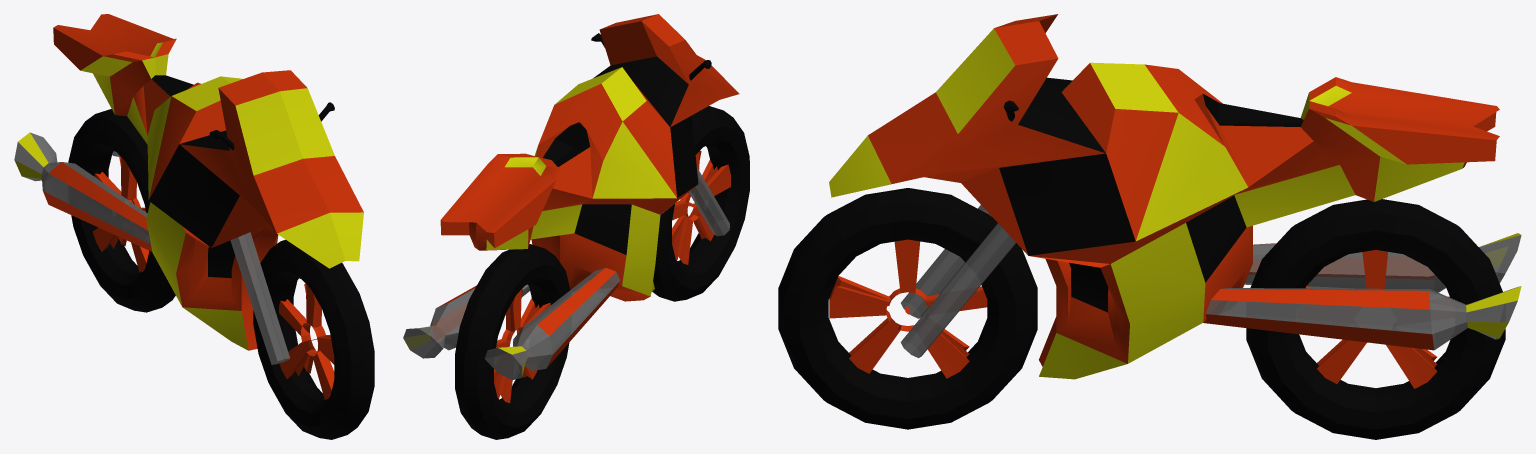
Rendered from nix.glb.
The picture shows the model from 3 angles, left to right: view 1: azimuth 30°, elevation 25°; view 2: azimuth 150°, elevation 25°; view 3: azimuth 270°, elevation 25°; orthographic projection. The views are drawn at different scales.
Parts seen in each view (by area): view 1: Torus.001; view 2: Torus.001; view 3: Torus.001.
Boxes of the visible parts, x1,y1,x2,y2 form: Torus.001: [14, 14, 374, 439]; Torus.001: [403, 14, 749, 439]; Torus.001: [778, 14, 1521, 439].
Size of the model in its own units: 2.08 by 4.37 by 7.05.
